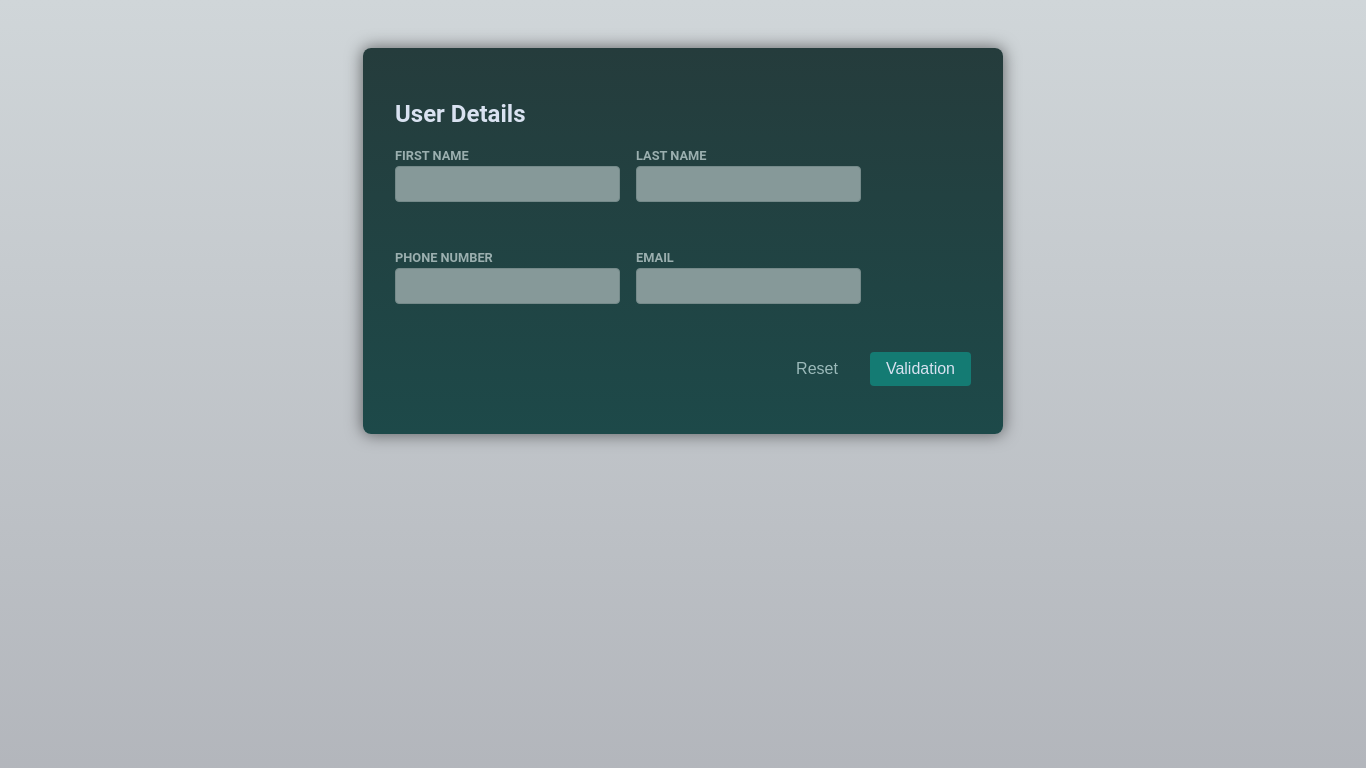
Test: shows validation errors when submitting empty form
Click the button "Validation". click: (920, 369)
box: [870,352,971,386]
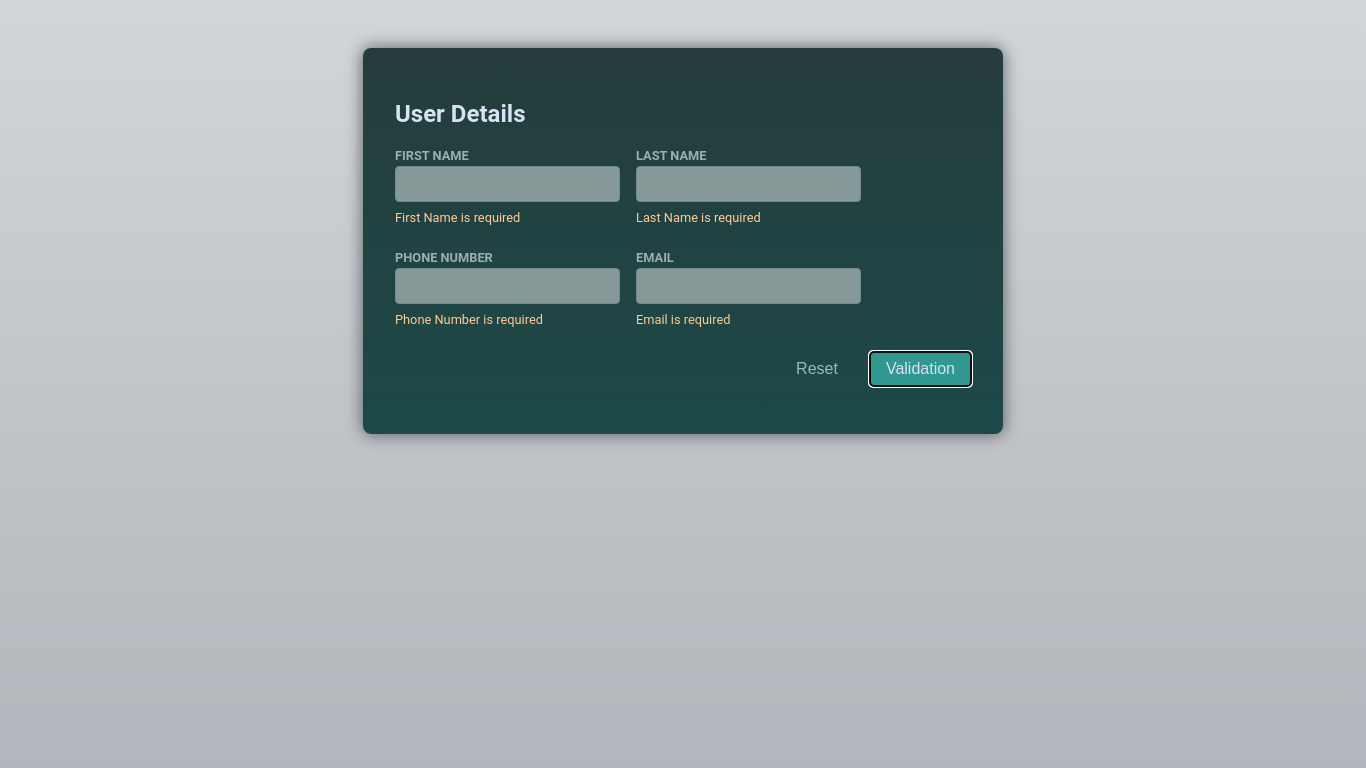
Expected: the text "First Name is required" is shown, [395,210,520,225]
Expected: the text "Last Name is required" is shown, [636,210,761,225]
Expected: the text "Phone Number is required" is shown, [395,312,543,327]
